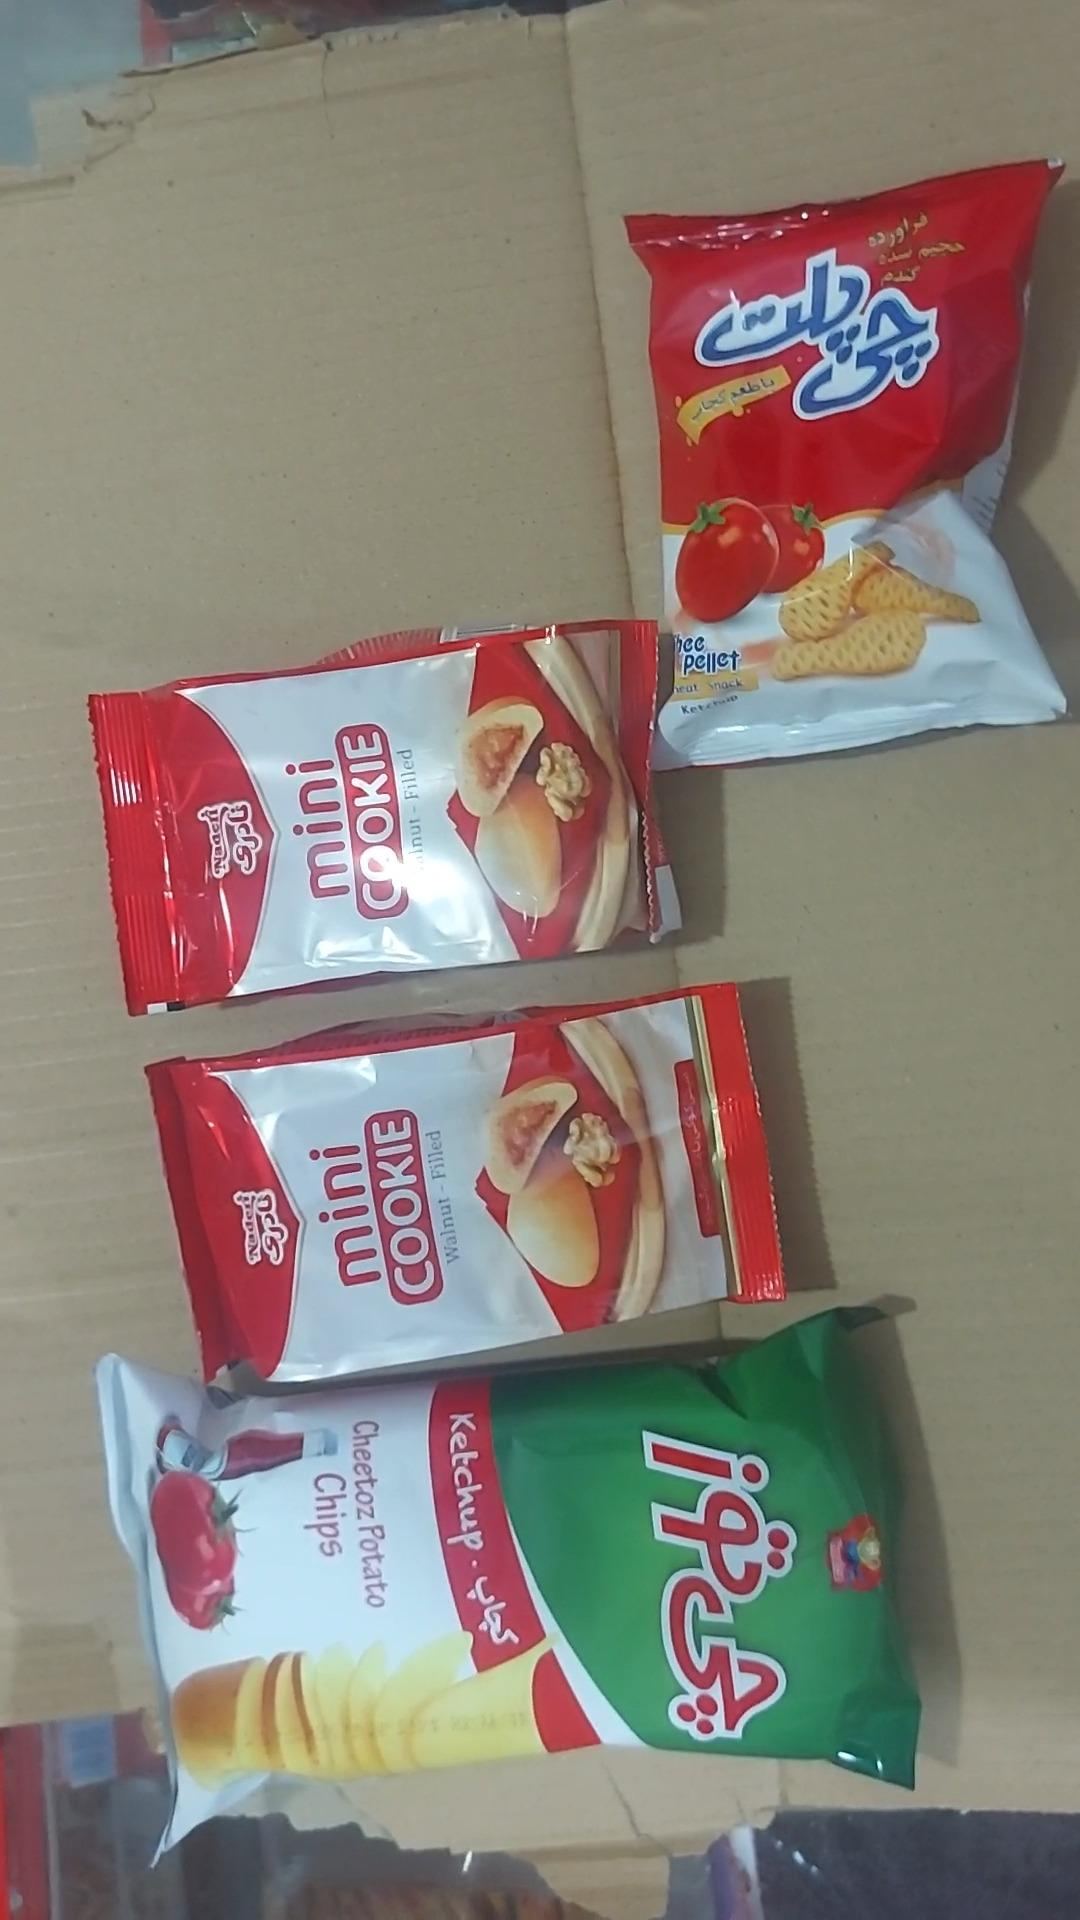Chee pellet ketchup: (624, 160, 1069, 774)
Cheetoz ketchup chips: (96, 1307, 922, 1873)
Naderi mini cookie: (142, 984, 786, 1385), (86, 620, 683, 1019)
